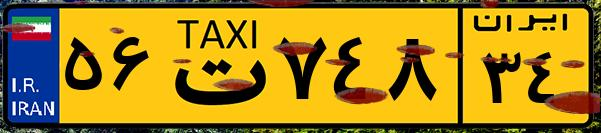3: (475, 38, 525, 113)
4: (330, 28, 385, 110), (525, 38, 570, 115)
5: (57, 26, 110, 100)
6: (110, 28, 158, 98)
7: (270, 28, 330, 110)
8: (385, 28, 445, 110)
ت: (158, 12, 270, 120)
